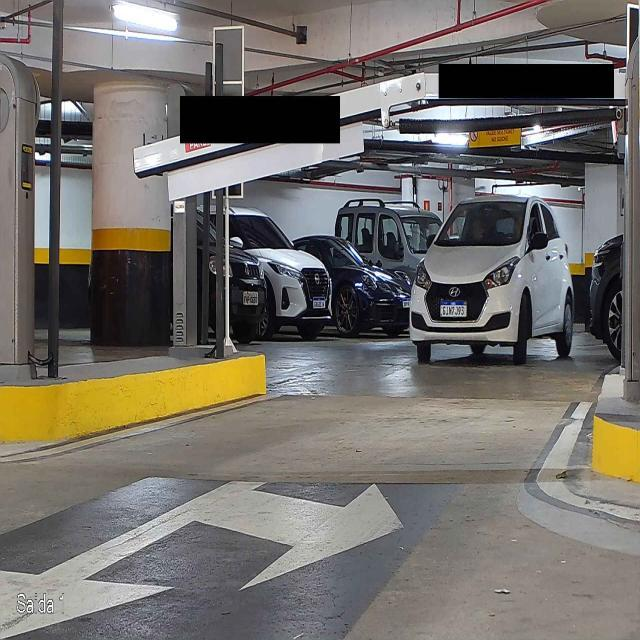mercosul_plate: (438, 299, 468, 318)
